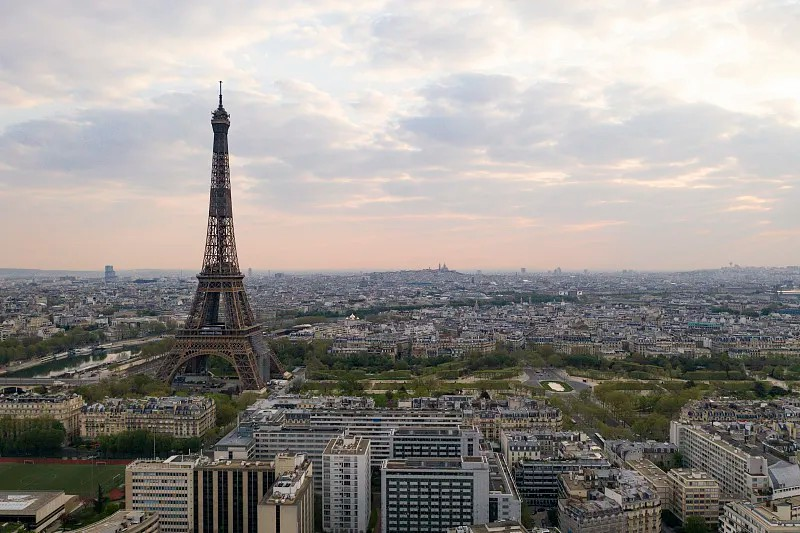Eiffel: (153, 80, 290, 393)
